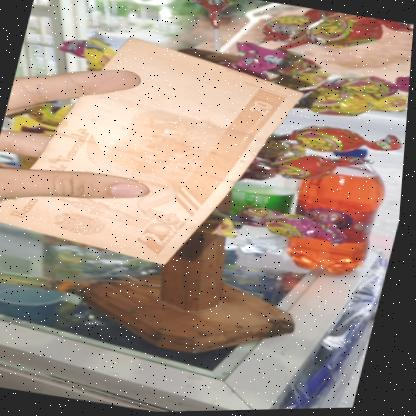vef_back: (0, 15, 316, 285)
